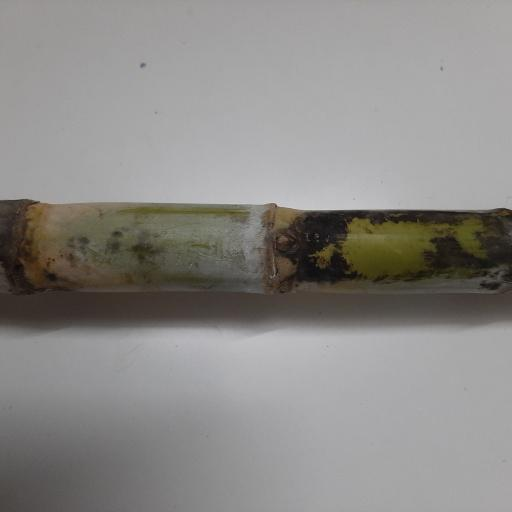Bud: (274, 232, 297, 253)
